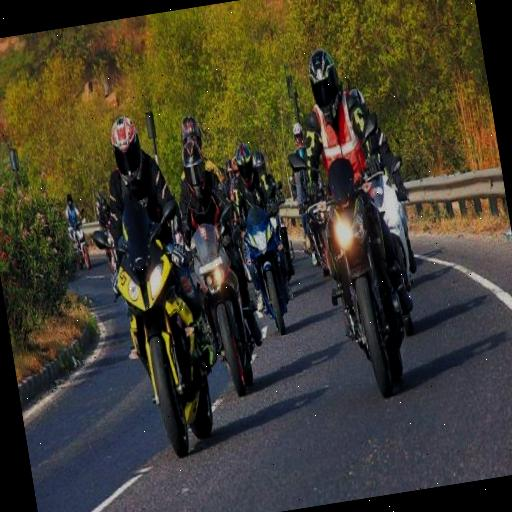helmet: (71, 92, 221, 444), (272, 32, 420, 361), (166, 130, 262, 396), (220, 130, 298, 330)
